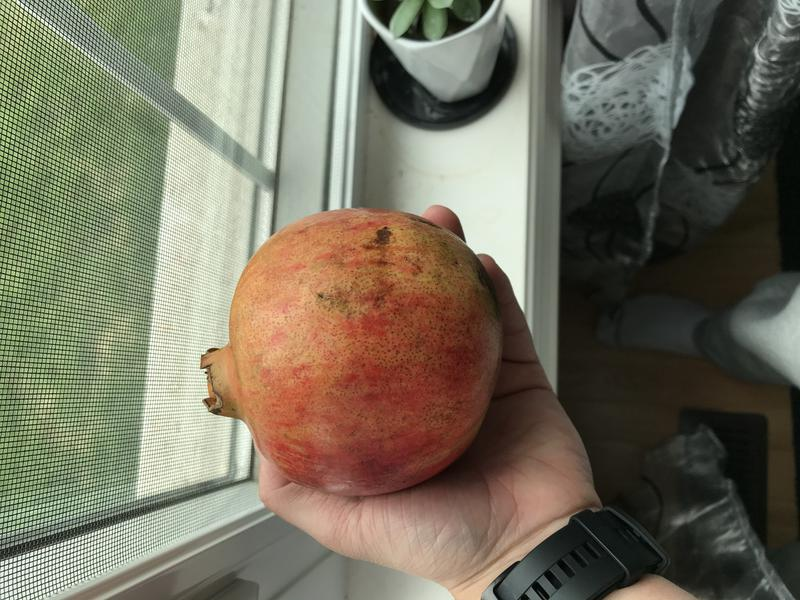pomegranate: (186, 198, 513, 515)
